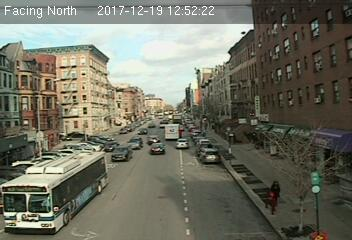bus: (1, 149, 108, 234)
car: (112, 146, 133, 161), (199, 147, 220, 162), (128, 136, 144, 149), (150, 142, 166, 153), (175, 138, 189, 148), (148, 135, 160, 144)
truck: (163, 123, 180, 141)
